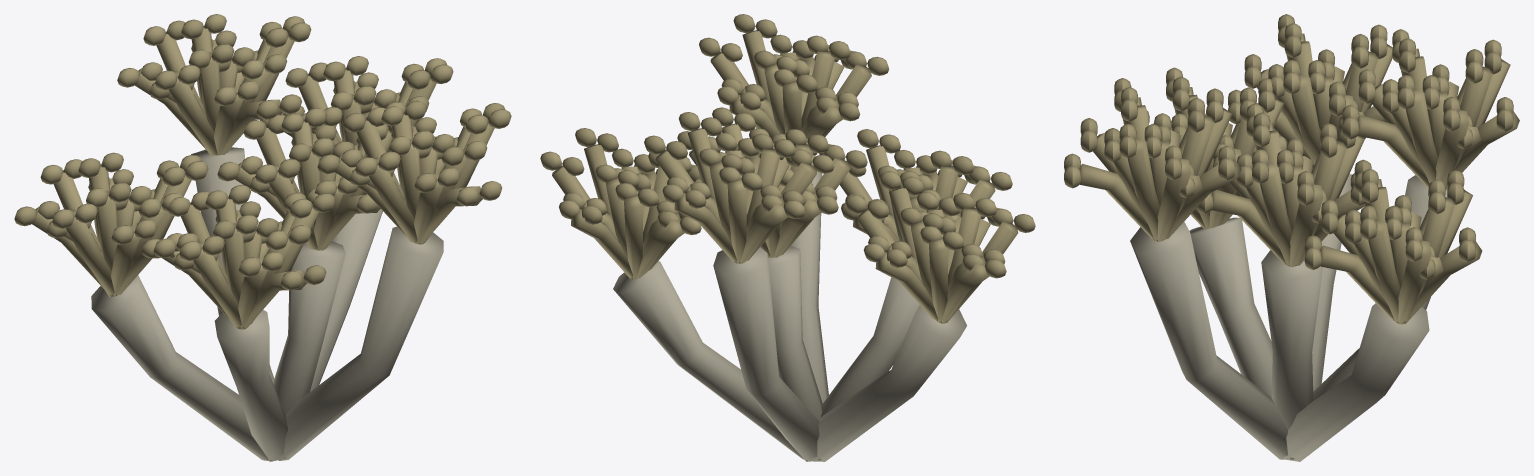
The model's file is hammer-mobile.glb.
3 views of the same model, side by side, from view 1: azimuth 30°, elevation 25°; view 2: azimuth 150°, elevation 25°; view 3: azimuth 270°, elevation 25° (orthographic). The views are drawn at different scales.
Visible parts, largest first — view 1: fleshy-tentacle, branching-corallum; view 2: fleshy-tentacle, branching-corallum; view 3: fleshy-tentacle, branching-corallum.
Part boxes in pixels (x1,y1,x2,y2): fleshy-tentacle: (14, 14, 511, 329); branching-corallum: (91, 147, 443, 461); fleshy-tentacle: (540, 14, 1035, 323); branching-corallum: (613, 171, 966, 461); fleshy-tentacle: (1064, 14, 1519, 324); branching-corallum: (1130, 174, 1464, 461).
Size of the model in its own units: 0.6413 by 0.5058 by 0.5108.
